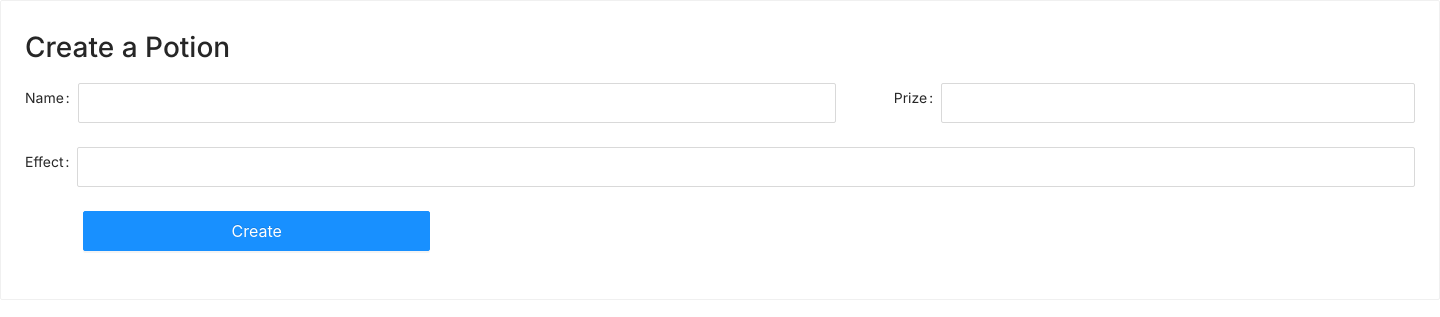
Test case: when user doesn´t fill in all fields and click send › should show an invalid message
In the field labelled "Name": (457, 103) x1=78 y1=83 x2=836 y2=123, type "My awesome potion"
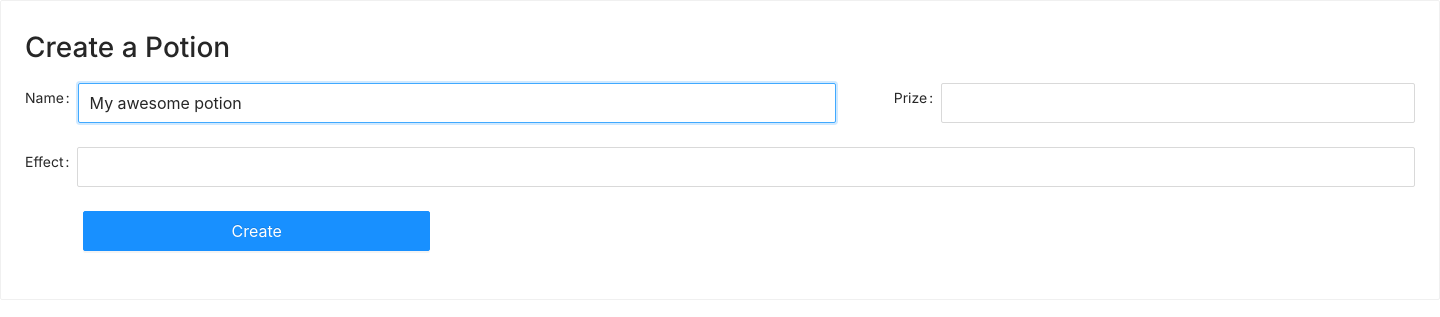
Click the button "Create": (257, 231) x1=83 y1=211 x2=430 y2=251
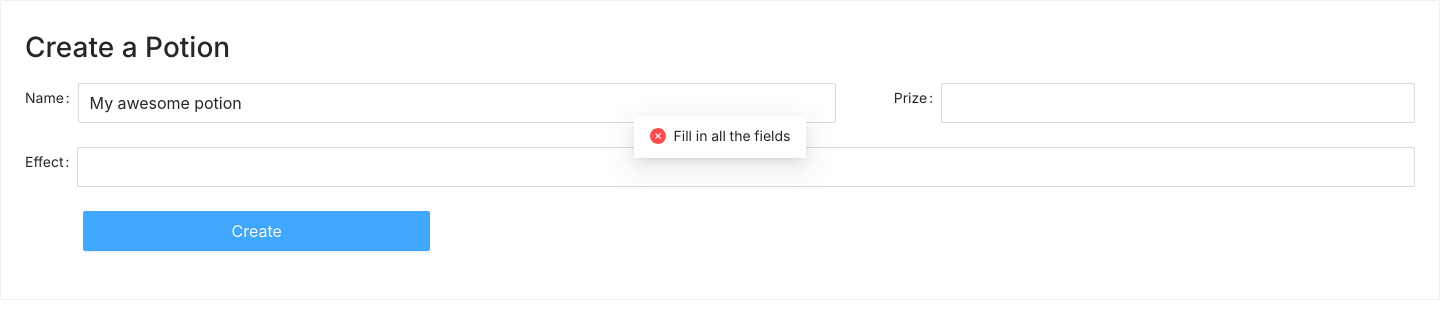
Result: the text "Fill in all the fields" is shown at x1=674 y1=128 x2=790 y2=145
